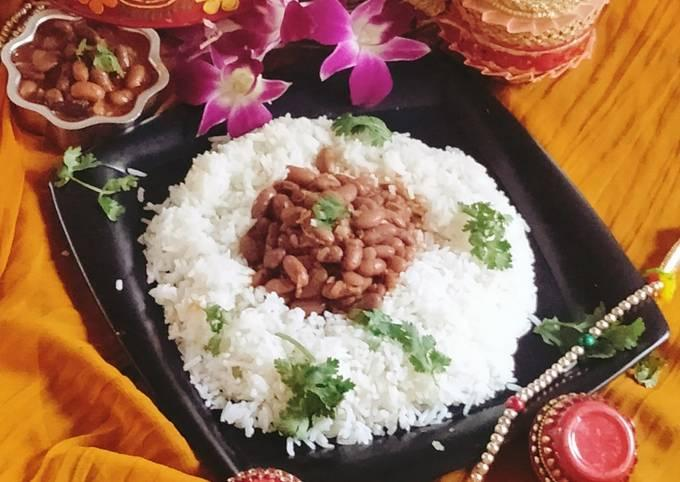rajma: (269, 178, 418, 302)
rice: (201, 310, 544, 429)
